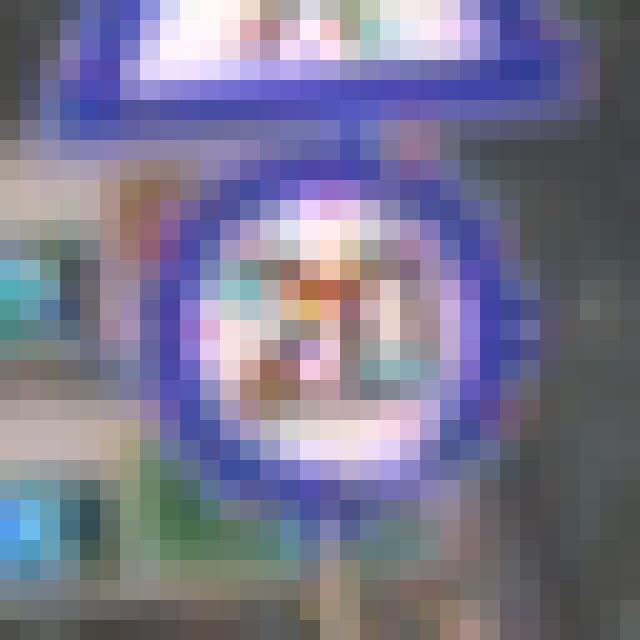SPEED LIMIT 20: (104, 127, 538, 529)
